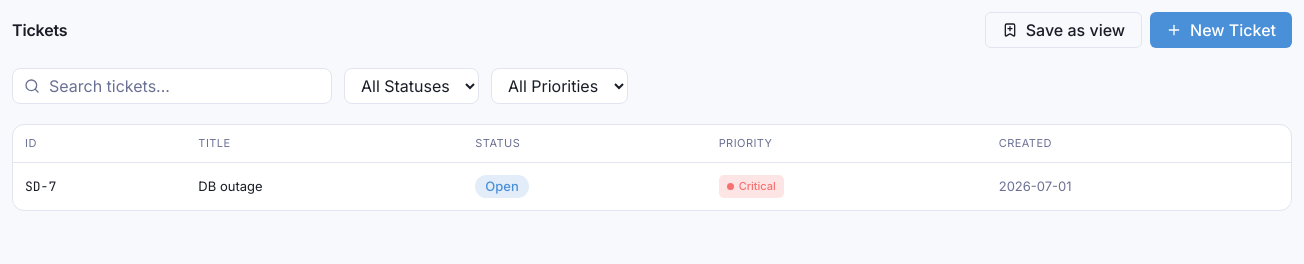
Test: TicketListPage Critical filter › still excludes an urgent ticket when a different level (High) is selected
The width and height of the screenshot is (1304, 264).
Select "High" in the 2nd dropdown showing "All Priorities" at (560,86), box [491,68,628,104]
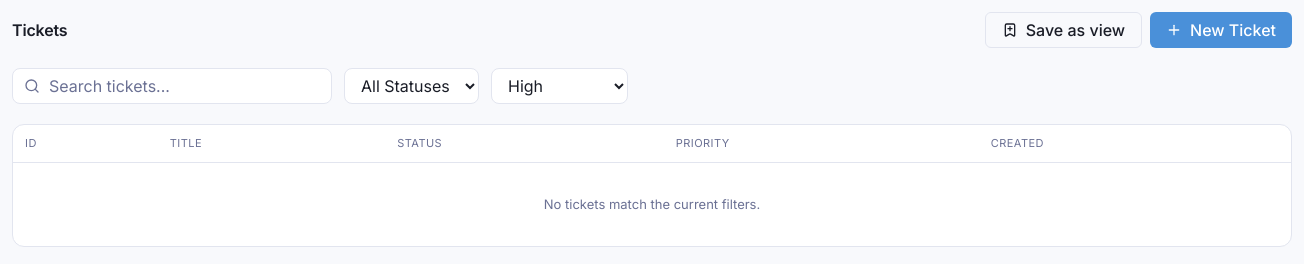
Check: the link "DB outage" is gone
Check: the text "No tickets match the current filters." is shown, box [13,162,1291,246]
